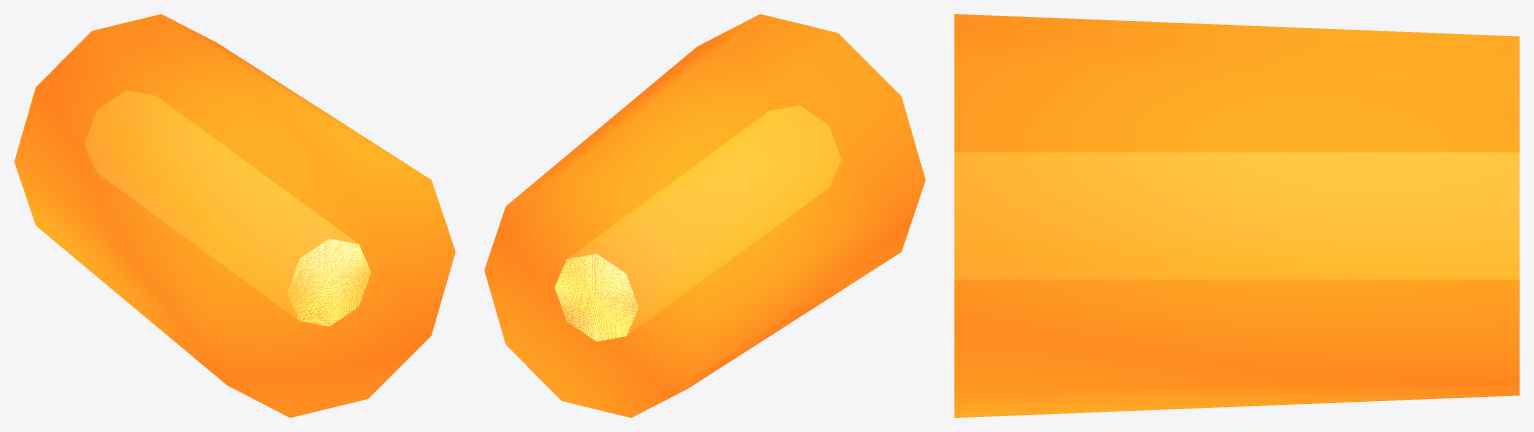
Rendered from fx_tower_x.glb.
The picture shows the model from 3 angles, left to right: view 1: azimuth 30°, elevation 25°; view 2: azimuth 150°, elevation 25°; view 3: azimuth 270°, elevation 25°; orthographic projection. The views are drawn at different scales.
Parts seen in each view (by area): view 1: fx_tower_x; view 2: fx_tower_x; view 3: fx_tower_x.
Boxes of the visible parts, x1,y1,x2,y2 form: fx_tower_x: (14,14,455,417); fx_tower_x: (484,14,925,417); fx_tower_x: (954,14,1519,417).
Size of the model in its own units: 0.72 by 0.6848 by 1.
